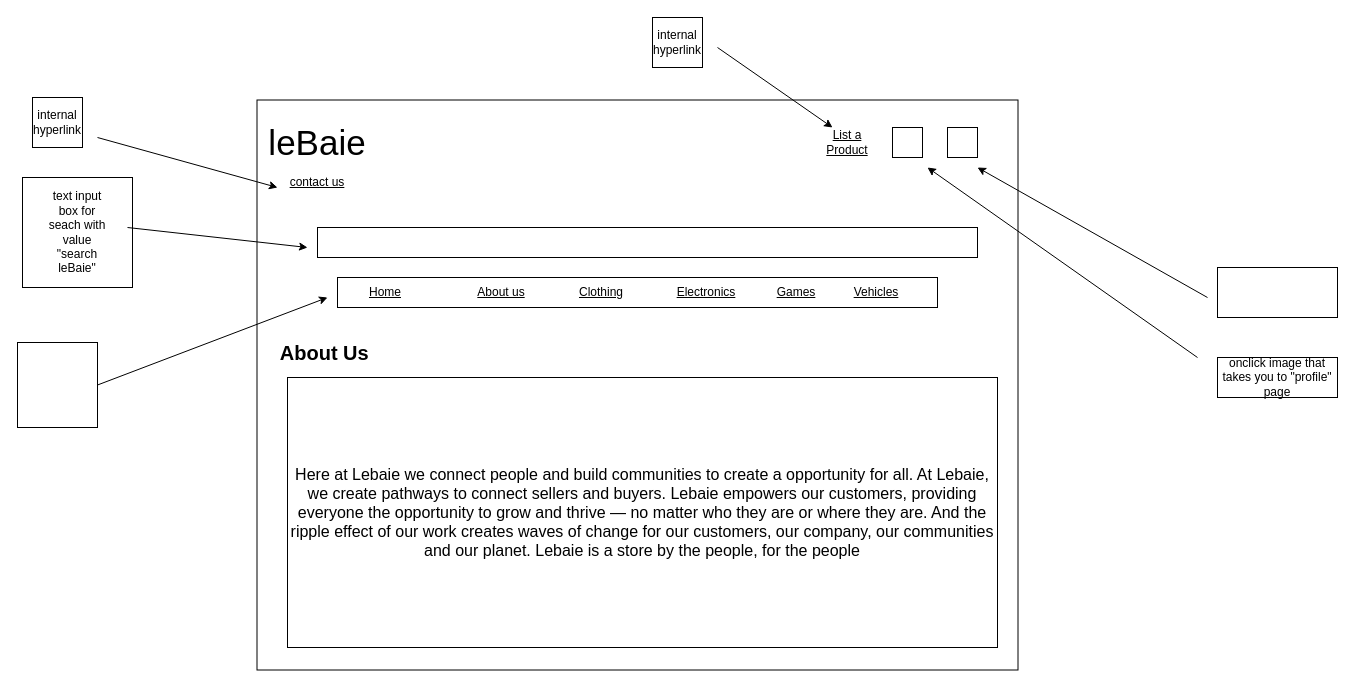
The diagram is 1355 pixels wide and 688 high, and some of its shapes have lost their labels. Here are the shapes that lost their labels. From the top down, the box of each, then its label:
(316, 226, 978, 258): search Lebaie
(1216, 266, 1338, 318): onclick image that takes you to "basket" page
(16, 342, 98, 428): Navigation Bar containing internal hyperlinks
